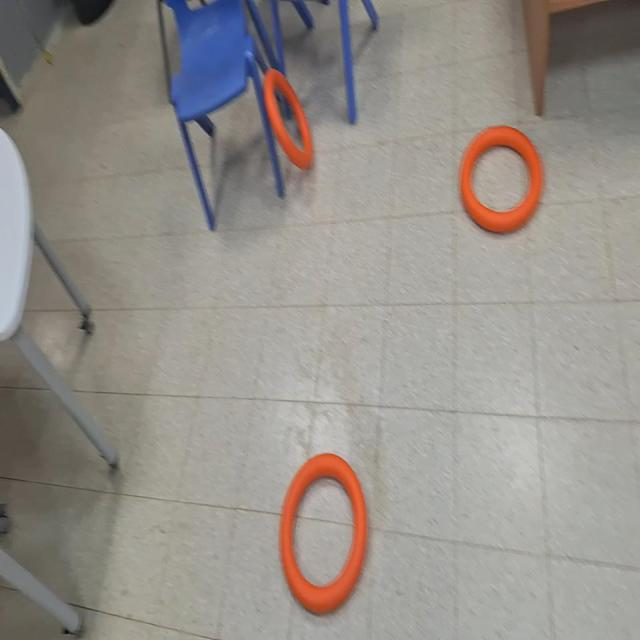note: (279, 453, 368, 617), (460, 124, 544, 235), (263, 68, 313, 172)
